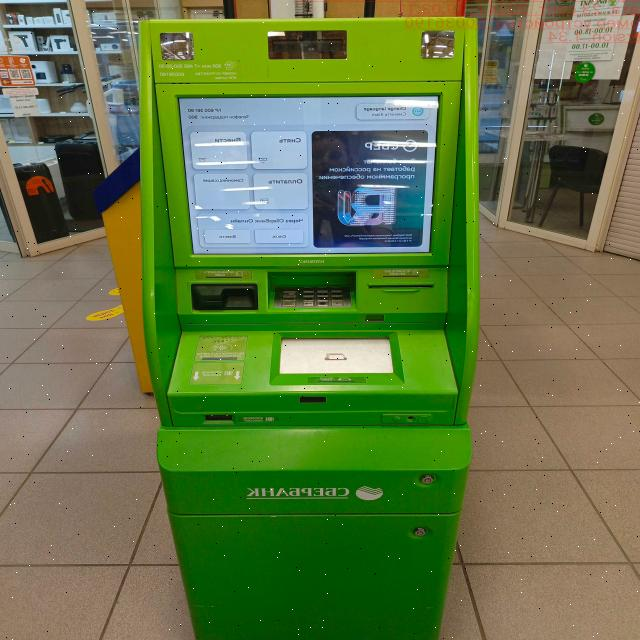bank: (140, 15, 479, 640)
